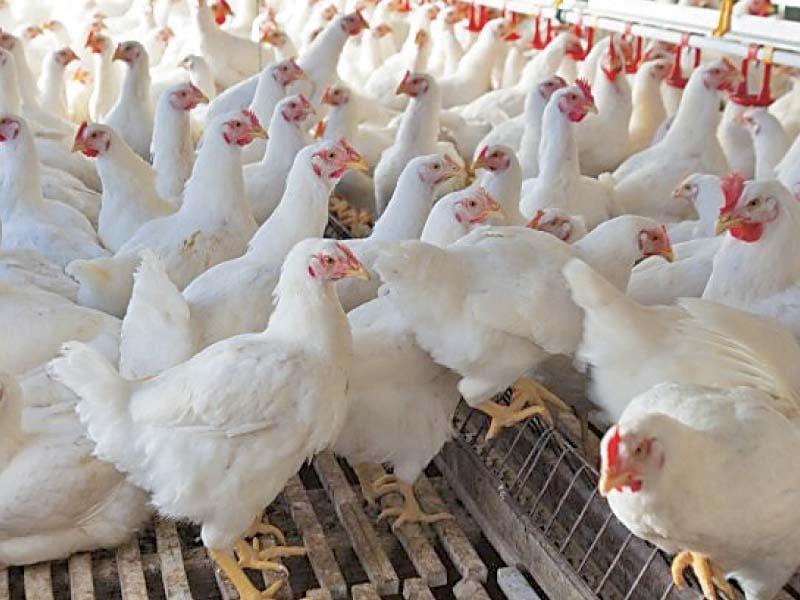Healthy: (595, 397, 709, 527), (270, 225, 377, 317), (712, 157, 800, 267), (283, 126, 373, 211), (603, 198, 684, 283), (61, 103, 144, 184), (534, 75, 608, 151), (678, 39, 749, 112), (199, 95, 270, 168), (401, 139, 470, 200), (583, 30, 641, 101), (385, 58, 448, 122), (421, 183, 503, 232), (151, 74, 212, 137), (250, 45, 310, 107), (463, 138, 526, 191), (102, 29, 157, 87), (319, 4, 378, 56)
